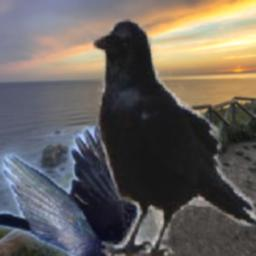Crow: (86, 17, 256, 256), (0, 127, 150, 256)
